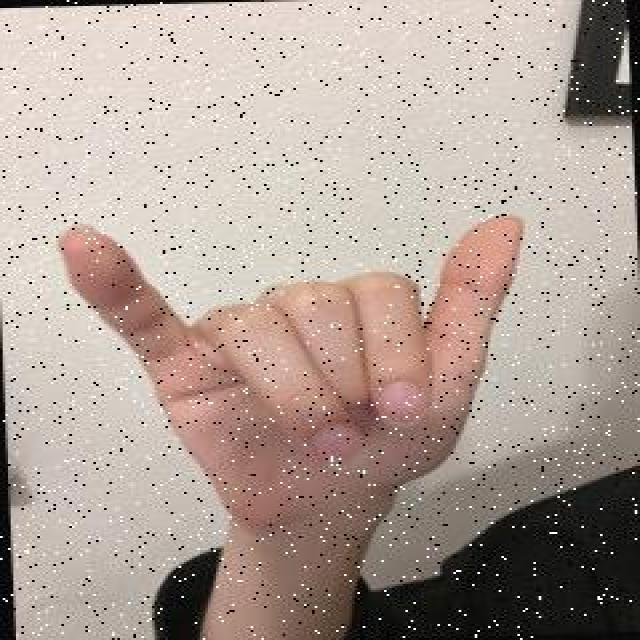Y: (48, 210, 539, 536)
